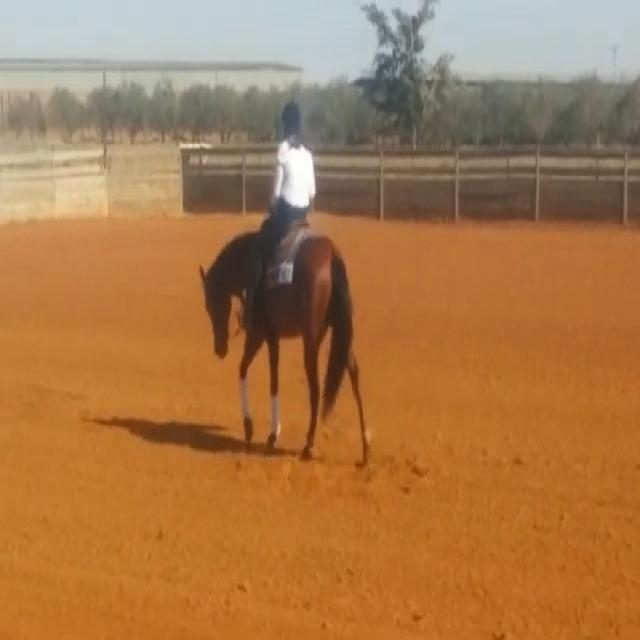horse: (196, 220, 373, 466)
